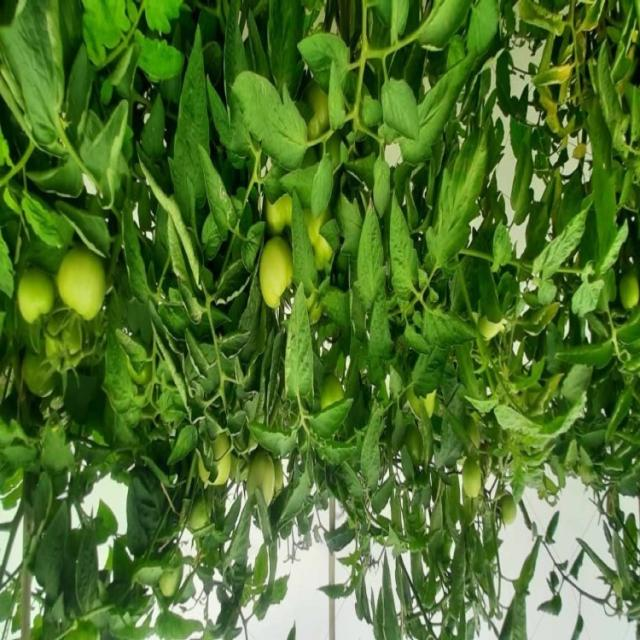tomato: (53, 241, 120, 325), (250, 234, 312, 316), (15, 254, 64, 315), (240, 449, 283, 512), (196, 430, 238, 492), (305, 210, 342, 274), (455, 452, 492, 505), (613, 262, 640, 321), (489, 490, 527, 531), (266, 184, 297, 234)
